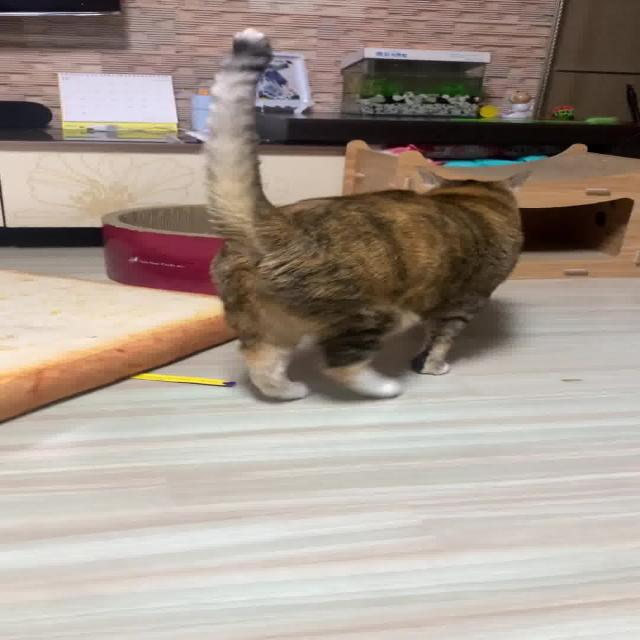cat: (194, 22, 536, 409)
